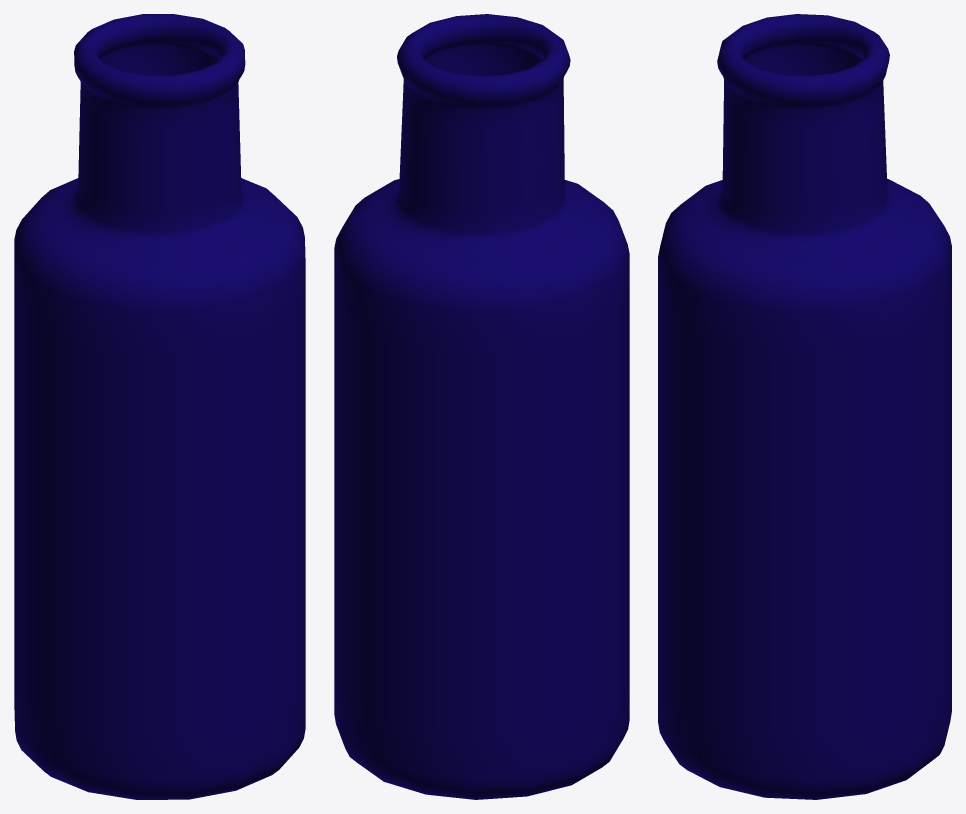
File: Bottle 1.FBX
3 renders of one model, left to right at view 1: azimuth 30°, elevation 25°; view 2: azimuth 150°, elevation 25°; view 3: azimuth 270°, elevation 25°, orthographic.
Parts seen in each view (by area): view 1: bottle 1; view 2: bottle 1; view 3: bottle 1.
Boxes of the visible parts, <box> form: bottle 1: <box>14,14,305,799</box>; bottle 1: <box>334,14,629,799</box>; bottle 1: <box>658,14,951,799</box>.
Size of the model in its own units: 9.48 by 24.93 by 9.48.
